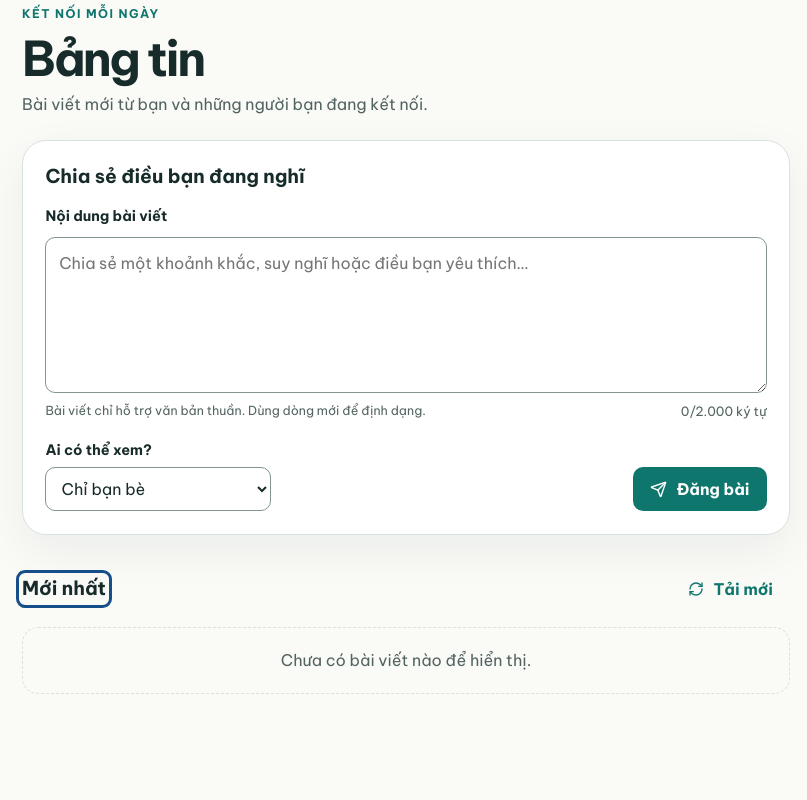
Test case: FeedPage uncertain create reconciliation › only enables the manual retry choice after the refreshed Feed request completes
Expected: the text "Chưa có bài viết nào để hiển thị." is shown, x1=22 y1=627 x2=790 y2=694
Step 1. Type "Preserve this draft" into the text box labelled "Nội dung bài viết" → (406, 315), box x1=45 y1=237 x2=767 y2=393
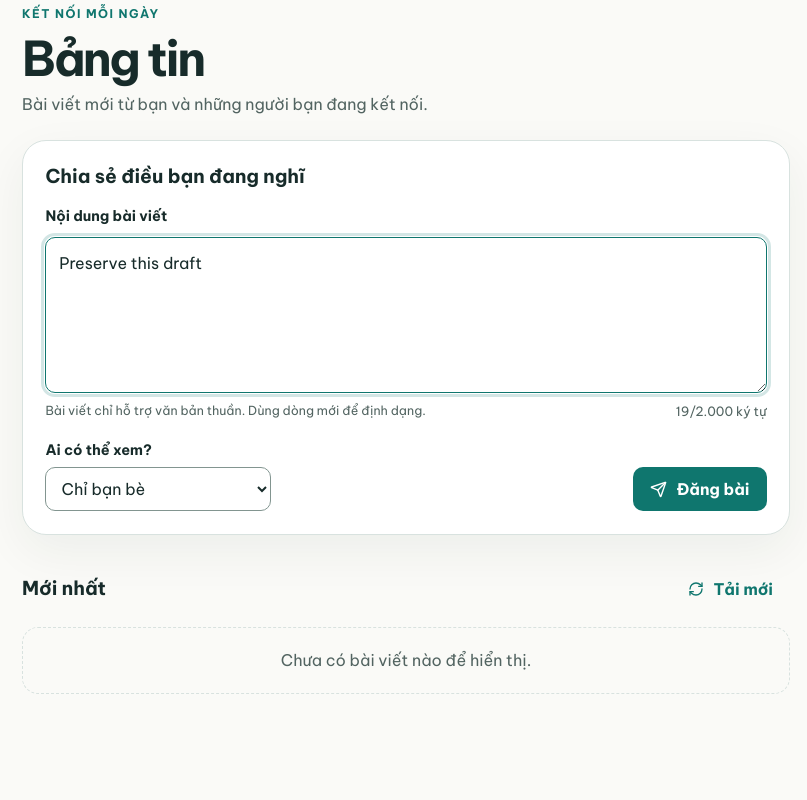
Step 2. Click the button "Đăng bài" → click(700, 489), box x1=633 y1=467 x2=767 y2=511
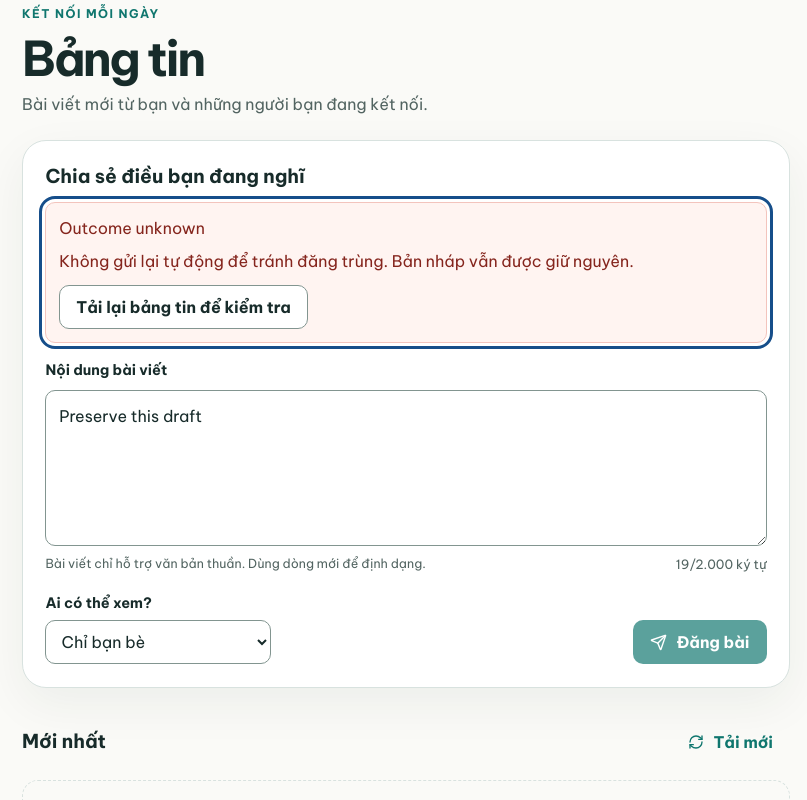
Expected: the text "Không gửi lại tự động để tránh đăng trùng. Bản nháp vẫn được giữ nguyên." is shown, x1=59 y1=251 x2=634 y2=271
Step 3. Click the button "Tải lại bảng tin để kiểm tra" → click(183, 307), box x1=59 y1=285 x2=308 y2=329
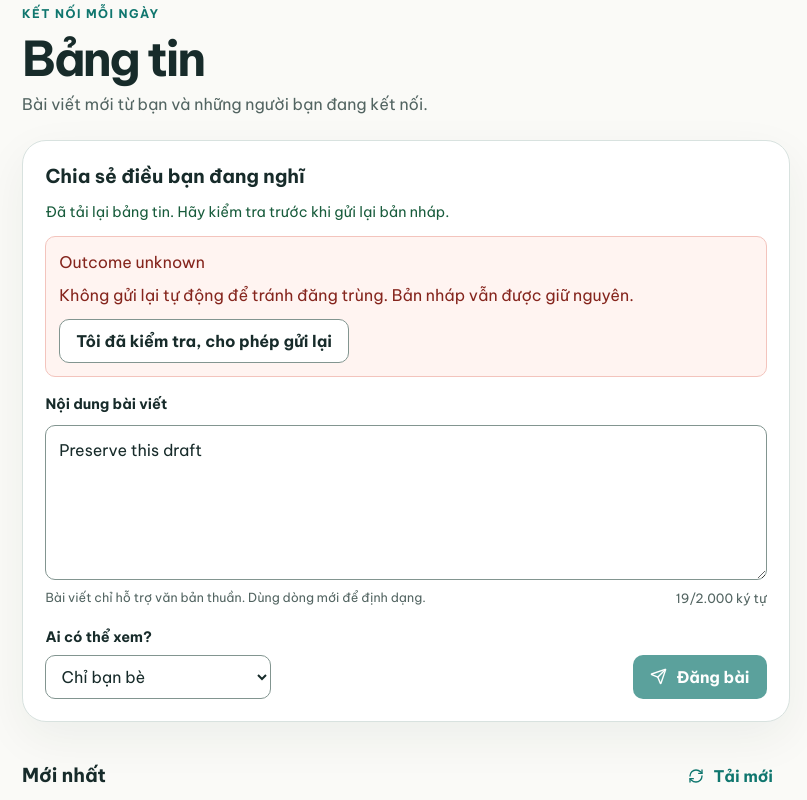
Expected: the button "Tôi đã kiểm tra, cho phép gửi lại" is shown, x1=59 y1=319 x2=349 y2=363
